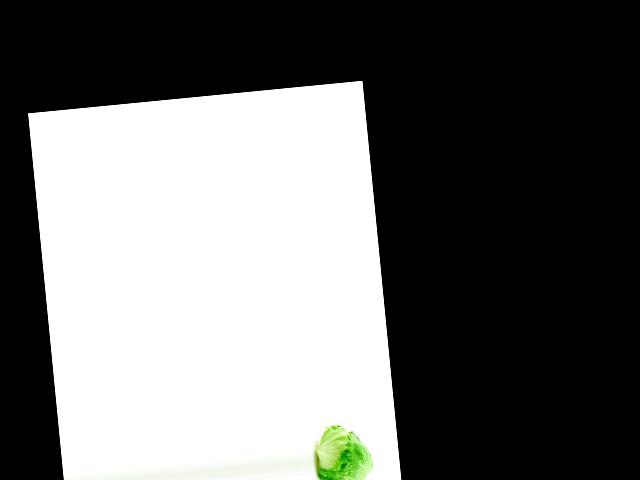lettuce: (313, 422, 377, 480)
